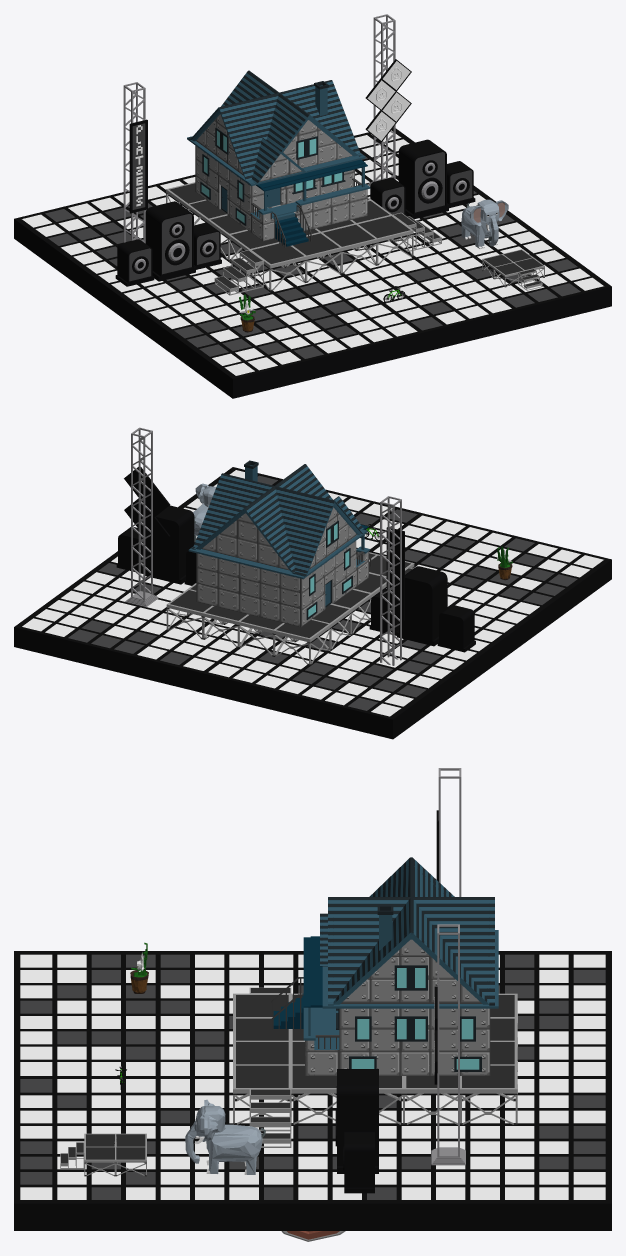
3 renders of one model, top to bottom at view 1: azimuth 30°, elevation 25°; view 2: azimuth 150°, elevation 25°; view 3: azimuth 270°, elevation 25°, orthographic. The views are drawn at different scales.
Visible parts, largest first — view 1: Cube.008, Cube.078, ANIMAL_ELEFANTE; view 2: Cube.008, Cube.078, ANIMAL_ELEFANTE; view 3: Cube.008, Cube.078, ANIMAL_ELEFANTE.
Boxes of the visible parts, bbox=[...] form: Cube.008: bbox=[14, 14, 611, 398]; Cube.078: bbox=[187, 70, 370, 247]; ANIMAL_ELEFANTE: bbox=[461, 199, 508, 248]; Cube.008: bbox=[14, 427, 611, 739]; Cube.078: bbox=[188, 460, 371, 627]; ANIMAL_ELEFANTE: bbox=[193, 483, 216, 542]; Cube.008: bbox=[14, 768, 611, 1230]; Cube.078: bbox=[271, 857, 498, 1075]; ANIMAL_ELEFANTE: bbox=[185, 1099, 265, 1174].
Size of the model in its own units: 4000 by 2688 by 4000.
Materials: 42 (3 with a texture image).
